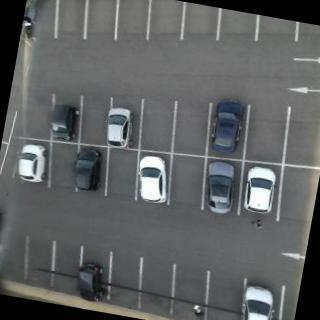car: (198, 159, 243, 218), (207, 98, 248, 156), (133, 153, 176, 207), (240, 166, 280, 217), (70, 146, 108, 197), (101, 103, 140, 152), (12, 142, 52, 187), (238, 282, 283, 320), (73, 258, 109, 305), (46, 99, 83, 143)
parking-space: (238, 99, 293, 170), (132, 94, 184, 158), (161, 263, 218, 320), (167, 96, 215, 162), (130, 257, 182, 317), (164, 151, 212, 215), (99, 252, 150, 311), (98, 144, 146, 205), (72, 92, 117, 152), (200, 272, 254, 320), (42, 138, 85, 197), (43, 241, 88, 295), (110, 1, 160, 49), (77, 1, 126, 48), (18, 237, 61, 288), (49, 1, 92, 46)
